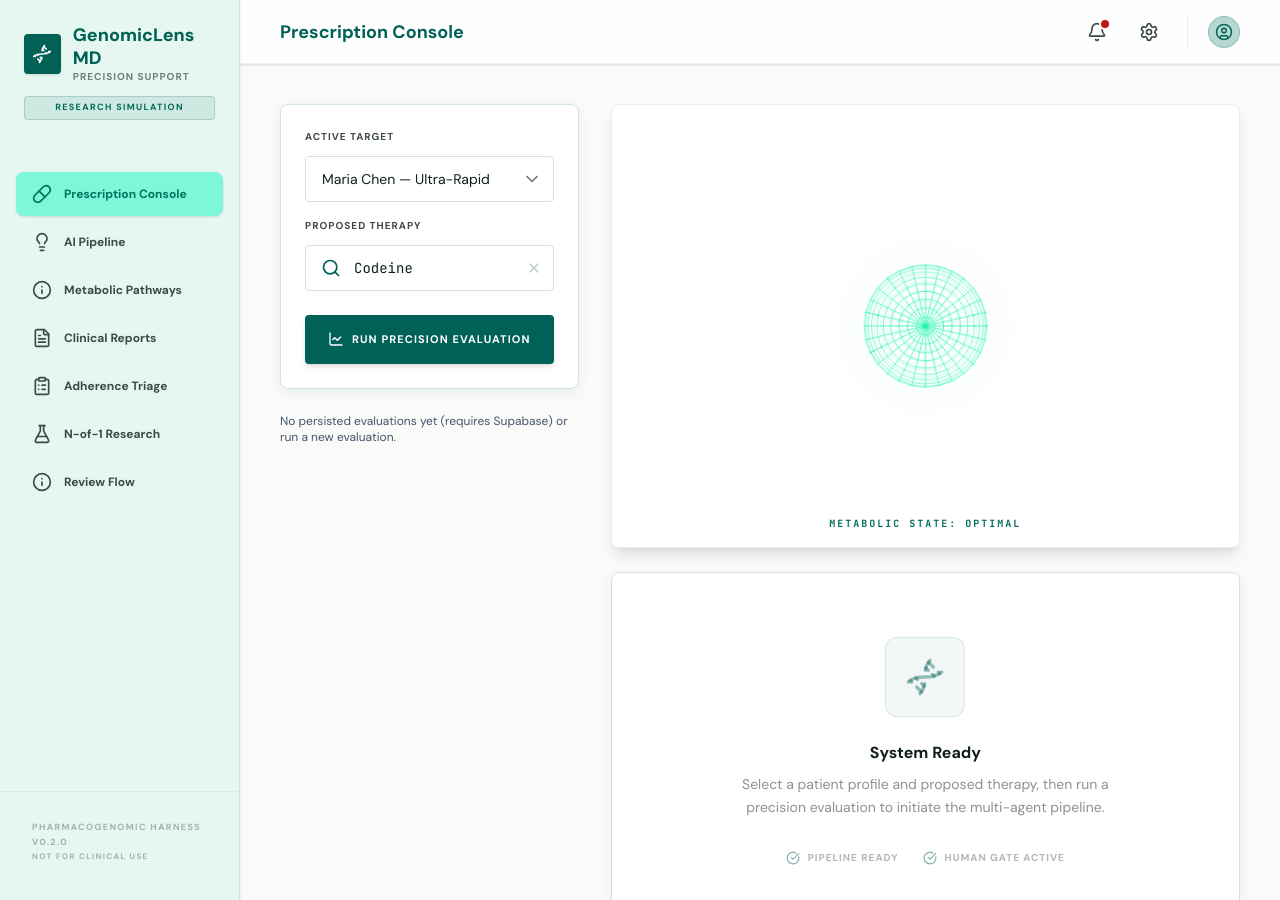
Home Page › runs evaluate, approval, note generation, and adherence unlock flow
The image size is (1280, 900).
Click the button "Run Precision Evaluation". click: x=429, y=339
box: top-left (305, 315), bottom-right (554, 364)
(page scrolled)
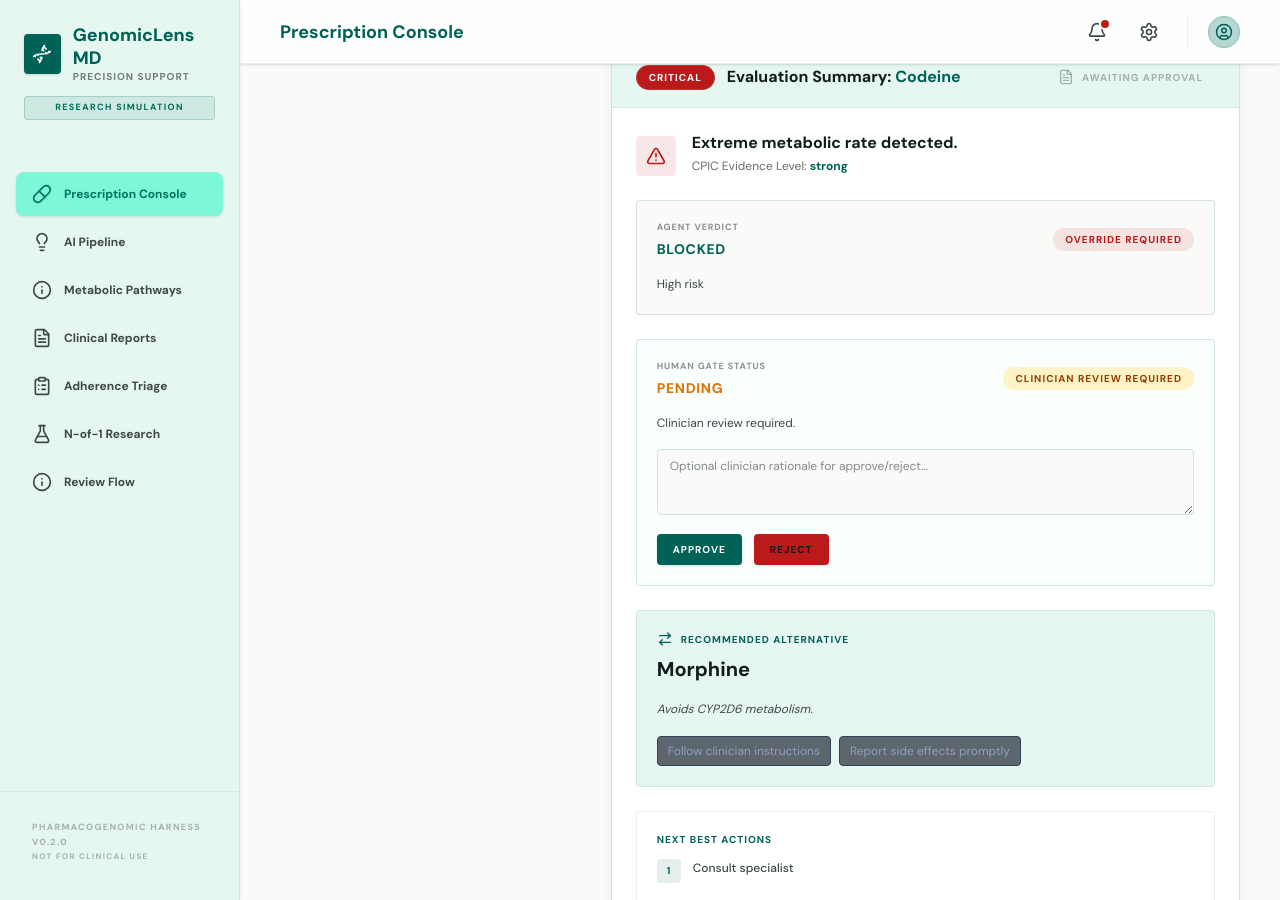
Now the text "Human Gate Status" is shown, box top-left (657, 360), bottom-right (766, 374)
Now the button "Awaiting Approval" is disabled, box top-left (1046, 64), bottom-right (1215, 91)
Type "Benefits documented." into the text box with placeholder "Optional clinician rationale for approve/reject...". click: x=925, y=482
box: top-left (657, 449), bottom-right (1194, 515)
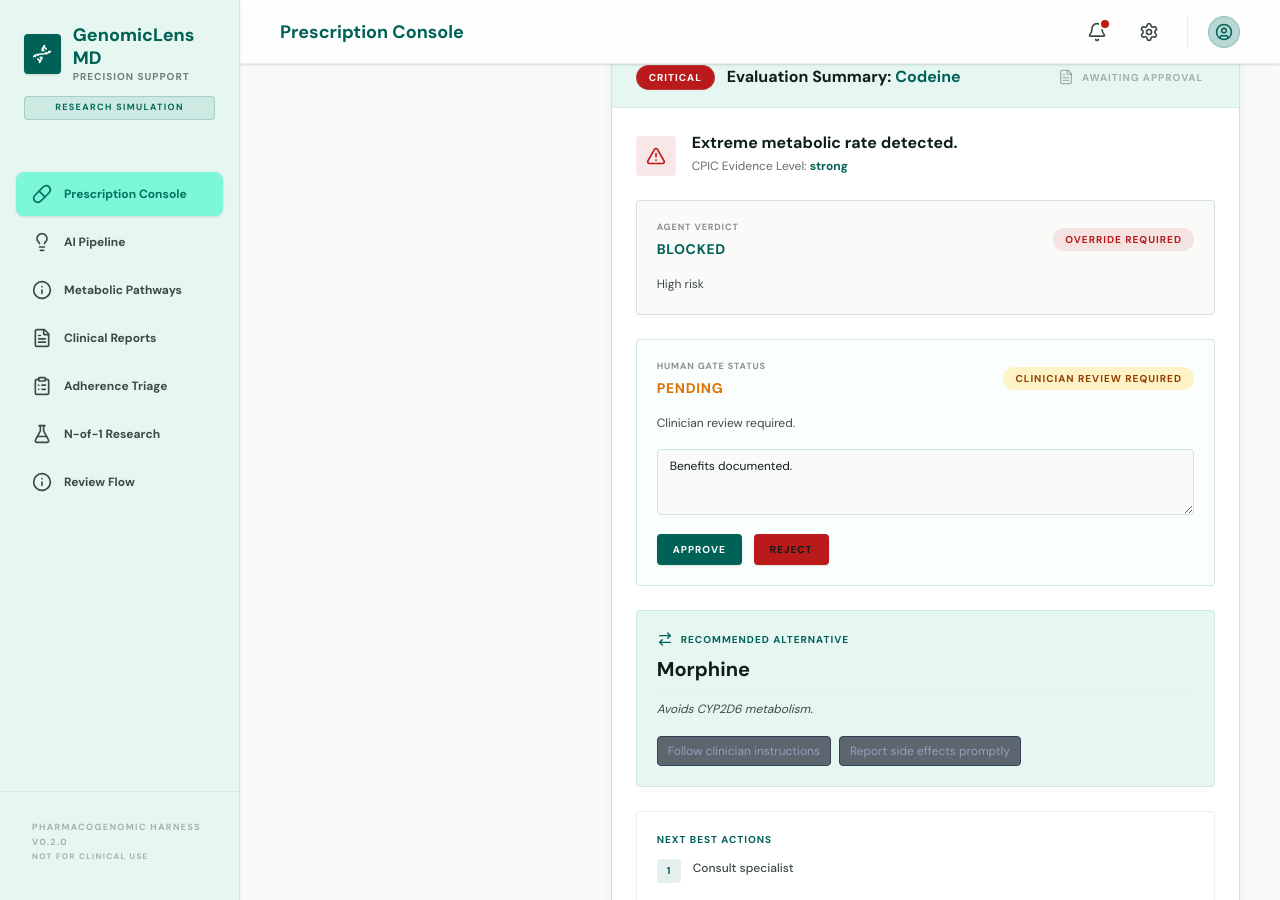
Click the button "Approve". click: x=699, y=550
box: top-left (657, 534), bottom-right (742, 565)
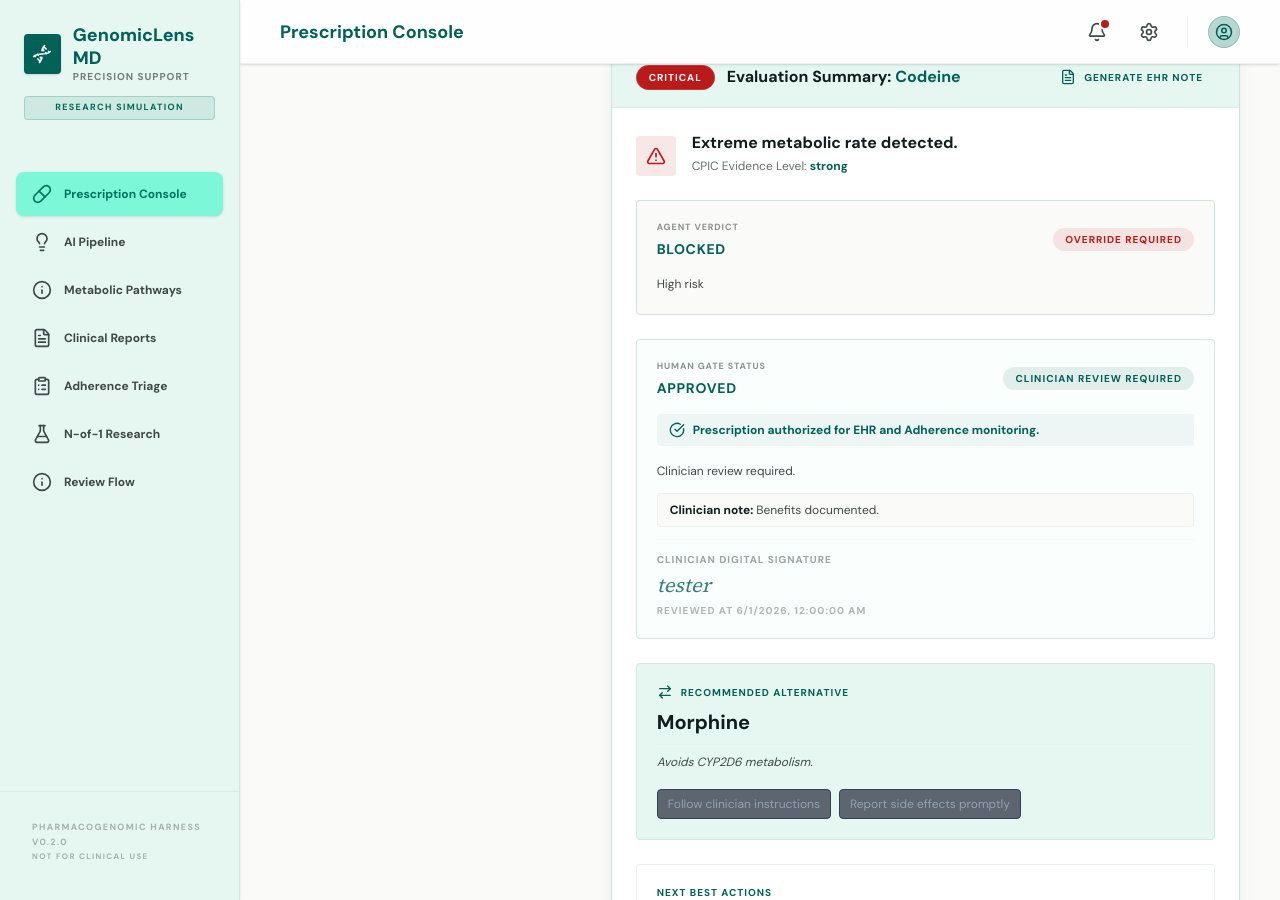
Now the button "Generate EHR Note" is enabled
Click the button "Generate EHR Note". click: x=1132, y=77
box: top-left (1048, 63), bottom-right (1215, 91)
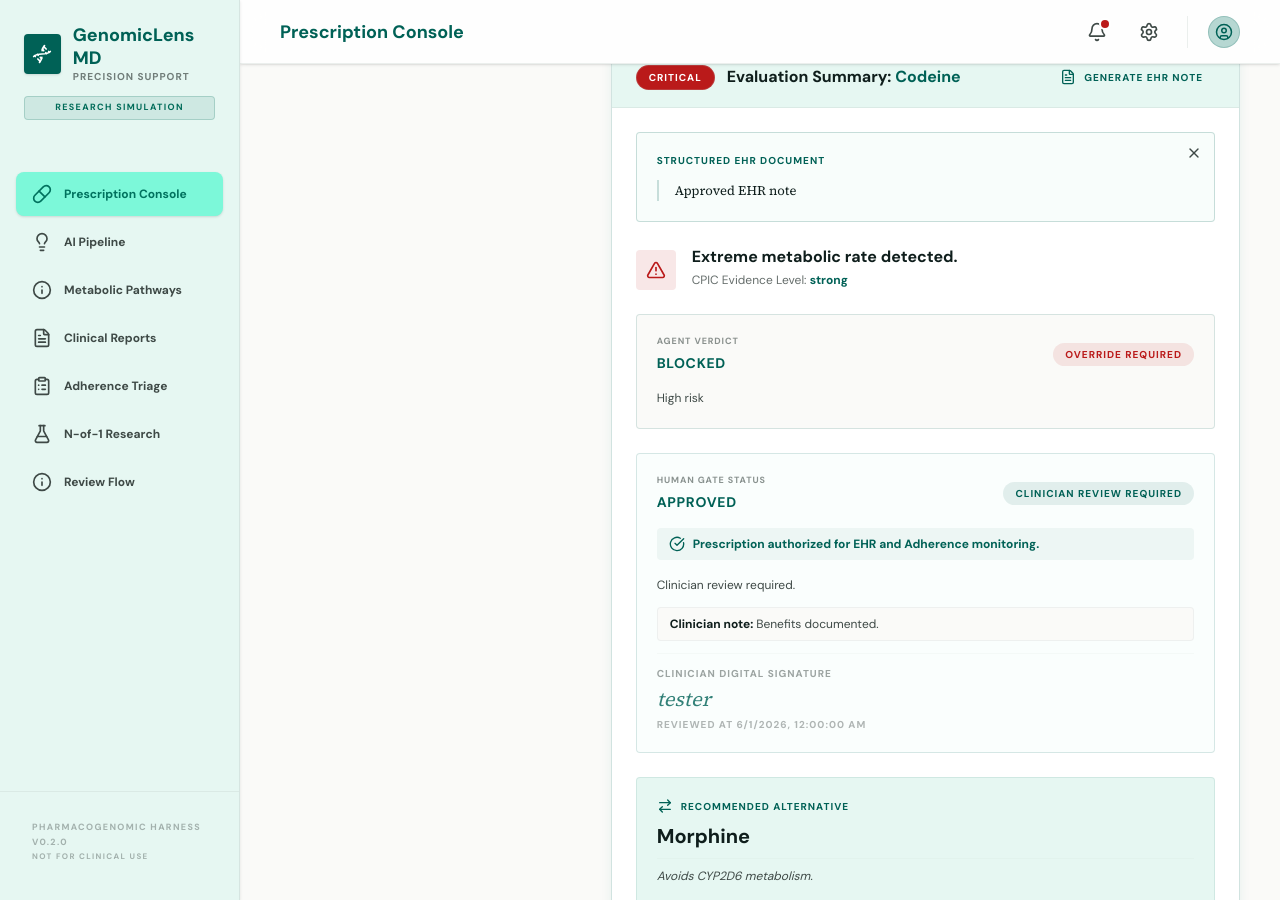
Now the text "Approved EHR note" is shown, box top-left (657, 180), bottom-right (1194, 201)
Click the button "Adherence Triage". click: x=120, y=386
box: top-left (16, 364), bottom-right (223, 408)
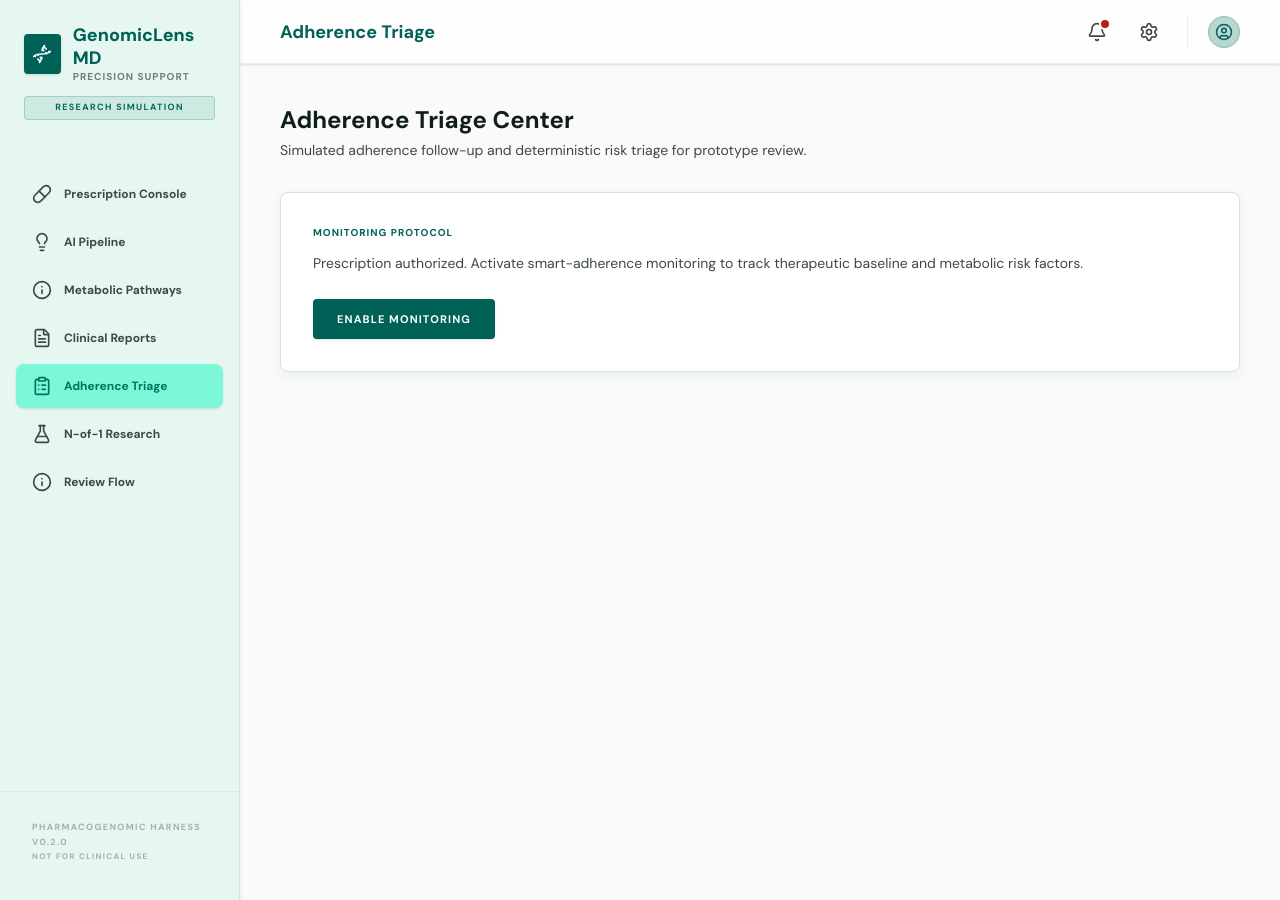
Now the text "Prescription authorized" is shown, box top-left (313, 254), bottom-right (1083, 272)
Click the button "Enable Monitoring". click: x=404, y=319
box: top-left (313, 299), bottom-right (495, 339)
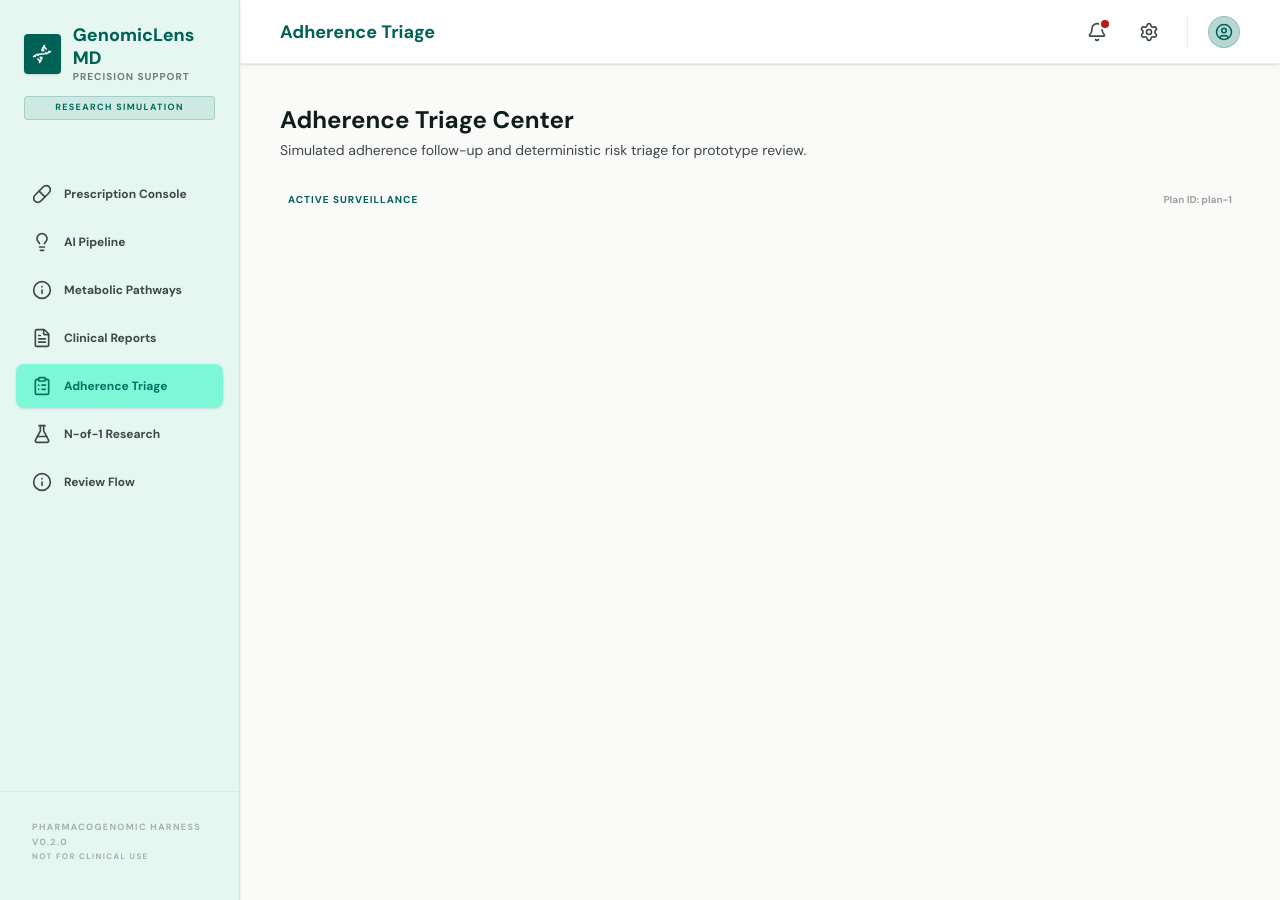
Now the heading "Active Surveillance" is shown, box top-left (288, 192), bottom-right (418, 207)
